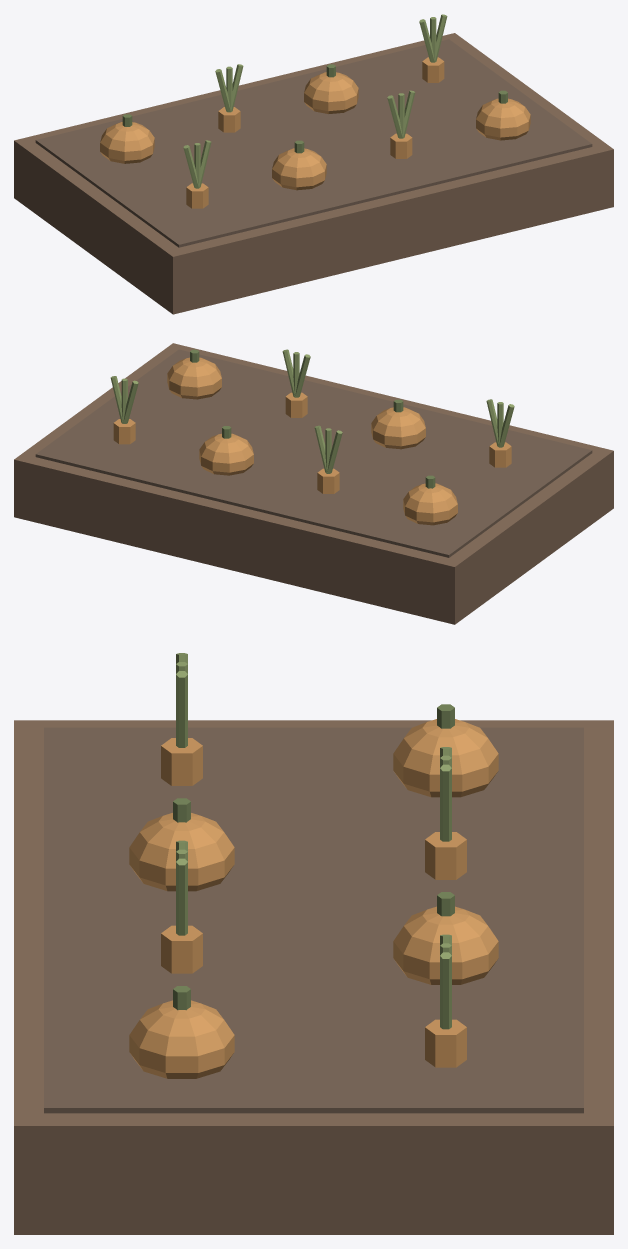
Rendered from VegetablePatch.fbx.
The picture shows the model from 3 angles, top to bottom: view 1: azimuth 30°, elevation 25°; view 2: azimuth 150°, elevation 25°; view 3: azimuth 270°, elevation 25°; orthographic projection. The views are drawn at different scales.
Parts seen in each view (by area): view 1: Prop_VegetablePatch; view 2: Prop_VegetablePatch; view 3: Prop_VegetablePatch.
Part boxes in pixels (x1,y1,x2,y2): Prop_VegetablePatch: [14, 14, 613, 314]; Prop_VegetablePatch: [14, 343, 613, 624]; Prop_VegetablePatch: [14, 653, 613, 1234].
Bounding box in the file's own units: 1.6 × 0.4222 × 1.
